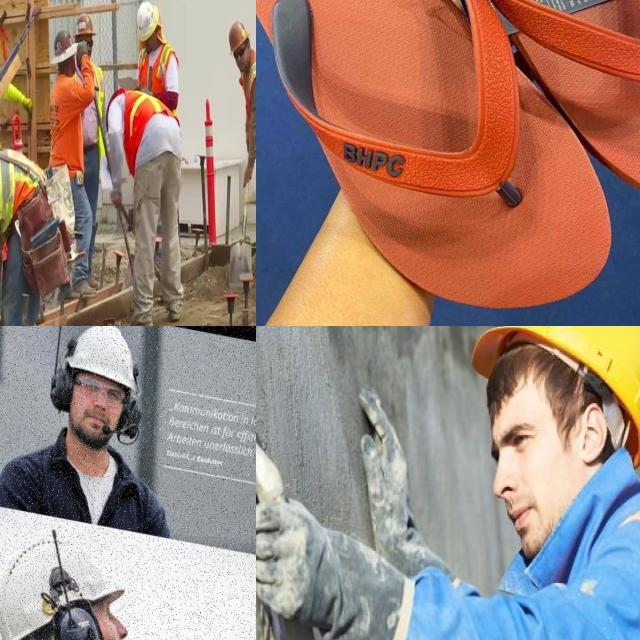No_Ear-Protection: (469, 326, 637, 566)
No_Glasses: (92, 604, 119, 624)
Sandals: (256, 0, 640, 326)
face_nomask: (69, 386, 120, 449), (102, 620, 127, 640)
glasses: (73, 378, 125, 406)
hand_noglove: (240, 163, 256, 196)
head_helmet: (0, 541, 124, 640), (66, 326, 136, 391), (52, 28, 80, 63), (134, 2, 158, 40), (228, 20, 248, 53), (76, 16, 94, 37)
person: (104, 87, 187, 326), (47, 33, 103, 306), (224, 20, 256, 264), (133, 2, 180, 112), (0, 32, 35, 152)
vest: (0, 145, 48, 231), (246, 54, 256, 144)
